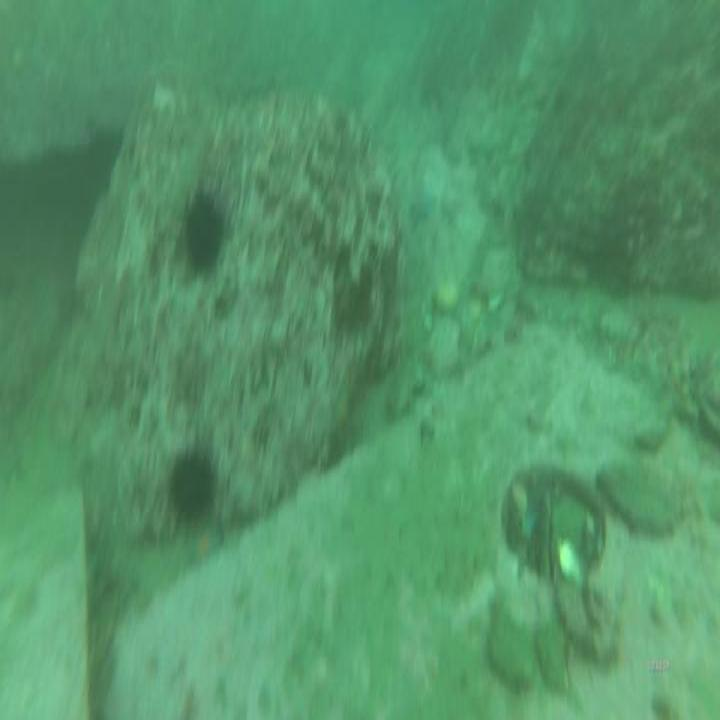echinus: (160, 436, 220, 528), (178, 183, 233, 279)
starfish: (408, 183, 437, 228)
